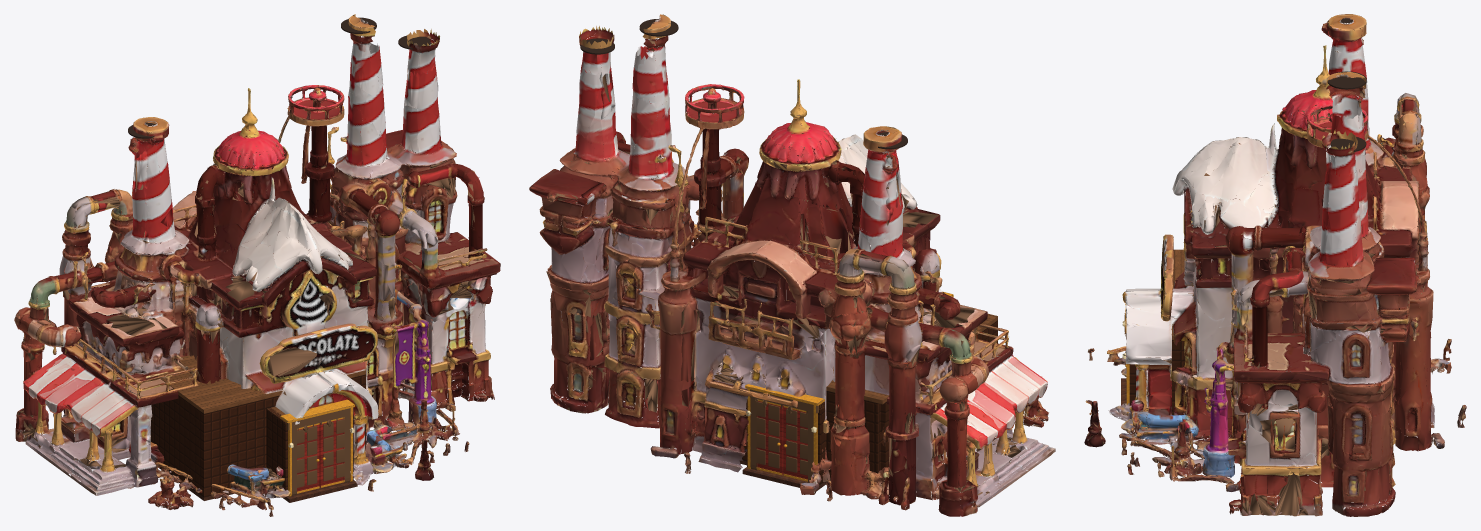
The model's file is Landmark_Factory_Fractured.fbx.
3 renders of one model, left to right at view 1: azimuth 30°, elevation 25°; view 2: azimuth 150°, elevation 25°; view 3: azimuth 270°, elevation 25°, orthographic. The views are drawn at different scales.
Parts seen in each view (by area): view 1: Landmark_Factory_Frag_46, Landmark_Factory_Frag_38, Landmark_Factory_Frag_00, Landmark_Factory_Frag_22, Landmark_Factory_Frag_31, Landmark_Factory_Frag_13, Landmark_Factory_Frag_35, Landmark_Factory_Frag_19, Landmark_Factory_Frag_06, Landmark_Factory_Frag_23, Landmark_Factory_Frag_30, Landmark_Factory_Frag_42 (+26 smaller); view 2: Landmark_Factory_Frag_19, Landmark_Factory_Frag_11, Landmark_Factory_Frag_04, Landmark_Factory_Frag_16, Landmark_Factory_Frag_38, Landmark_Factory_Frag_25, Landmark_Factory_Frag_28, Landmark_Factory_Frag_50, Landmark_Factory_Frag_09, Landmark_Factory_Frag_30, Landmark_Factory_Frag_43, Landmark_Factory_Frag_07 (+24 smaller); view 3: Landmark_Factory_Frag_02, Landmark_Factory_Frag_35, Landmark_Factory_Frag_17, Landmark_Factory_Frag_44, Landmark_Factory_Frag_16, Landmark_Factory_Frag_03, Landmark_Factory_Frag_41, Landmark_Factory_Frag_32, Landmark_Factory_Frag_30, Landmark_Factory_Frag_34, Landmark_Factory_Frag_20, Landmark_Factory_Frag_51 (+21 smaller).
Boxes of the visible parts, <box> form: Landmark_Factory_Frag_46: <box>200,244,317,406</box>; Landmark_Factory_Frag_38: <box>319,94,441,217</box>; Landmark_Factory_Frag_00: <box>370,240,490,365</box>; Landmark_Factory_Frag_22: <box>132,211,222,354</box>; Landmark_Factory_Frag_31: <box>52,286,171,385</box>; Landmark_Factory_Frag_13: <box>160,193,306,288</box>; Landmark_Factory_Frag_35: <box>290,218,376,353</box>; Landmark_Factory_Frag_19: <box>59,189,148,314</box>; Landmark_Factory_Frag_06: <box>138,407,232,509</box>; Landmark_Factory_Frag_23: <box>219,405,317,516</box>; Landmark_Factory_Frag_30: <box>195,88,301,215</box>; Landmark_Factory_Frag_42: <box>255,357,378,449</box>; Landmark_Factory_Frag_19: <box>831,236,941,378</box>; Landmark_Factory_Frag_11: <box>744,213,861,355</box>; Landmark_Factory_Frag_04: <box>539,179,664,295</box>; Landmark_Factory_Frag_16: <box>658,167,803,279</box>; Landmark_Factory_Frag_38: <box>588,101,723,232</box>; Landmark_Factory_Frag_25: <box>621,246,715,390</box>; Landmark_Factory_Frag_28: <box>680,270,784,370</box>; Landmark_Factory_Frag_50: <box>875,368,977,510</box>; Landmark_Factory_Frag_09: <box>550,265,657,407</box>; Landmark_Factory_Frag_30: <box>762,79,864,210</box>; Landmark_Factory_Frag_43: <box>808,335,918,452</box>; Landmark_Factory_Frag_07: <box>910,403,1019,516</box>; Landmark_Factory_Frag_02: <box>1244,248,1372,386</box>; Landmark_Factory_Frag_35: <box>1164,144,1276,296</box>; Landmark_Factory_Frag_17: <box>1234,353,1367,467</box>; Landmark_Factory_Frag_44: <box>1298,391,1395,516</box>; Landmark_Factory_Frag_16: <box>1286,149,1428,265</box>; Landmark_Factory_Frag_03: <box>1122,363,1233,452</box>; Landmark_Factory_Frag_41: <box>1144,272,1223,372</box>; Landmark_Factory_Frag_32: <box>1226,411,1302,516</box>; Landmark_Factory_Frag_30: <box>1211,45,1363,180</box>; Landmark_Factory_Frag_34: <box>1340,226,1421,326</box>; Landmark_Factory_Frag_20: <box>1121,401,1241,488</box>; Landmark_Factory_Frag_51: <box>1321,129,1366,239</box>.
Bounding box in the file's own units: 3498 × 2984 × 2576.
